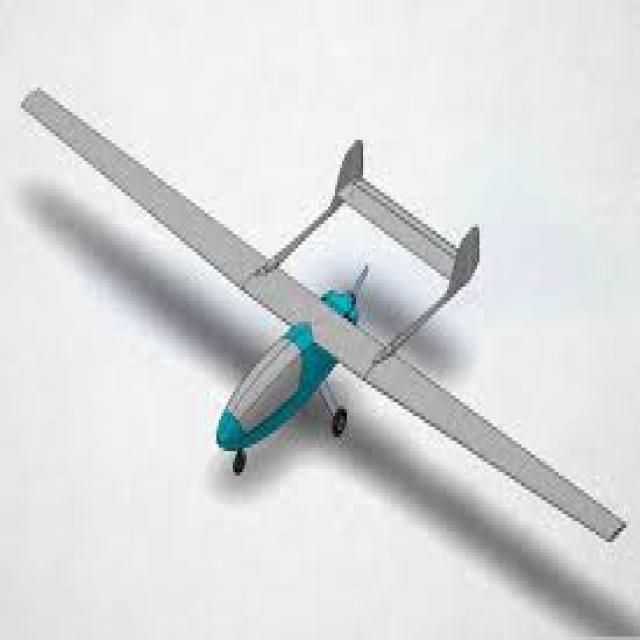iha: (5, 114, 536, 480)
